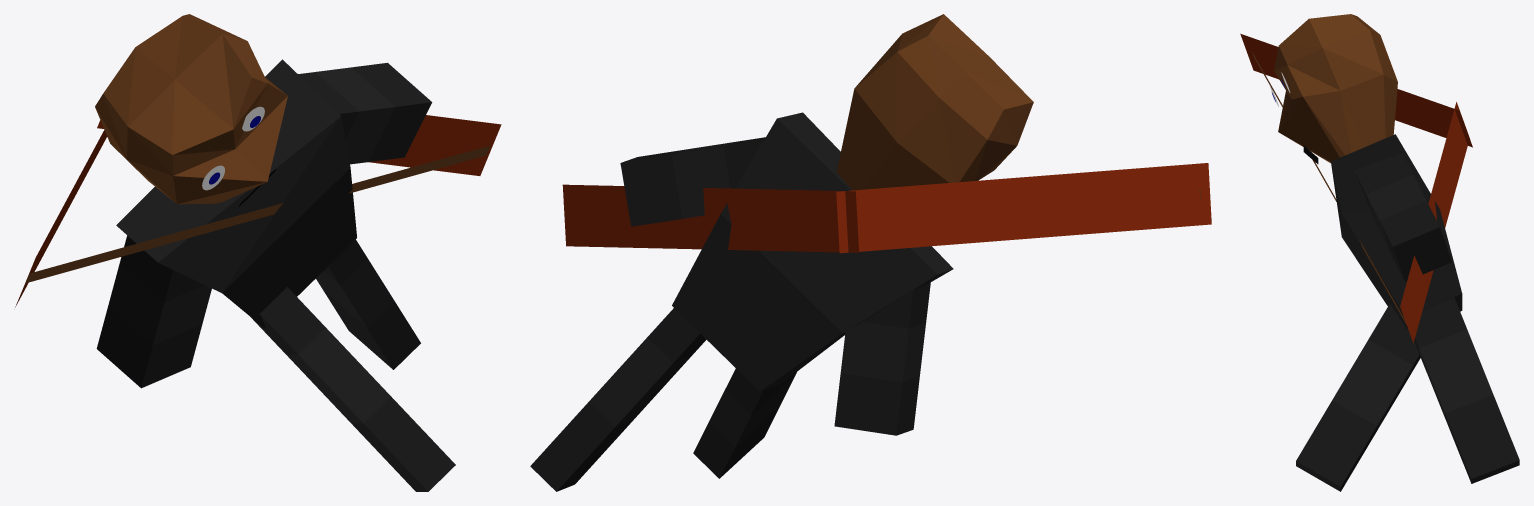
Rendered from heavyarcher2d.obj.
3 renders of one model, left to right at view 1: azimuth 30°, elevation 25°; view 2: azimuth 150°, elevation 25°; view 3: azimuth 270°, elevation 25°, orthographic. The views are drawn at different scales.
Parts seen in each view (by area): view 1: Cube.001, Cube, Cube.004, Cube.003, Cube.002, Cube.005, Plane.001_Plane.002, Plane.003_Plane.004, Plane.002_Plane.003; view 2: Cube.001, Cube, Plane.002_Plane.003, Plane.001_Plane.002, Cube.003, Cube.005, Cube.002, Cube.004; view 3: Cube, Cube.004, Cube.005, Cube.001, Cube.002, Plane.001_Plane.002, Plane.002_Plane.003, Plane.003_Plane.004.
Boxes of the visible parts, box(x1,y1,x2,y2) form: Cube.001: box(116, 59, 356, 328); Cube: box(95, 14, 287, 204); Cube.004: box(251, 287, 455, 491); Cube.003: box(96, 235, 211, 388); Cube.002: box(298, 62, 432, 164); Cube.005: box(316, 239, 420, 369); Plane.001_Plane.002: box(97, 115, 501, 175); Plane.003_Plane.004: box(26, 145, 489, 283); Plane.002_Plane.003: box(15, 130, 107, 307); Cube.001: box(672, 112, 953, 391); Cube: box(836, 14, 1033, 190); Plane.002_Plane.003: box(836, 163, 1211, 253); Plane.001_Plane.002: box(562, 184, 858, 252); Cube.003: box(834, 282, 930, 435); Cube.005: box(530, 308, 706, 491); Cube.002: box(620, 137, 765, 226); Cube.004: box(693, 368, 796, 478); Cube: box(1274, 14, 1397, 163); Cube.004: box(1296, 304, 1420, 491); Cube.005: box(1414, 297, 1519, 483); Cube.001: box(1331, 134, 1462, 328); Cube.002: box(1354, 153, 1451, 281); Plane.001_Plane.002: box(1400, 102, 1469, 343); Plane.002_Plane.003: box(1240, 33, 1472, 147); Plane.003_Plane.004: box(1252, 52, 1406, 324).
Bounding box in the file's own units: 6 × 5.16 × 3.31.
